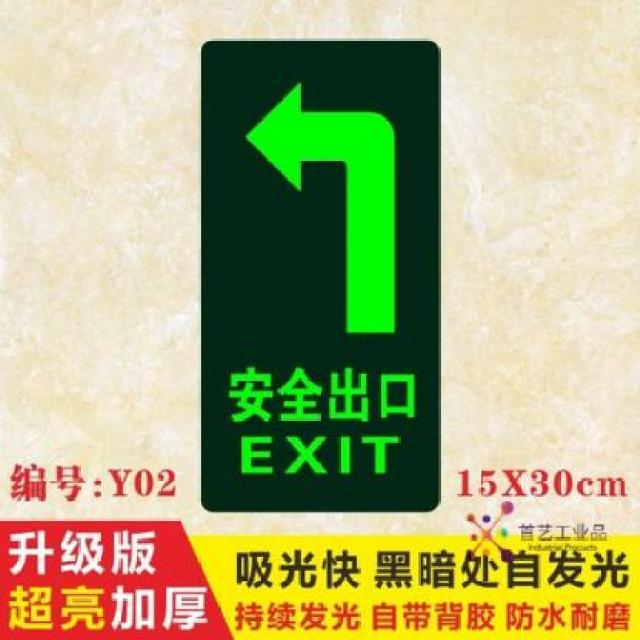exit_sign: (189, 31, 447, 524)
